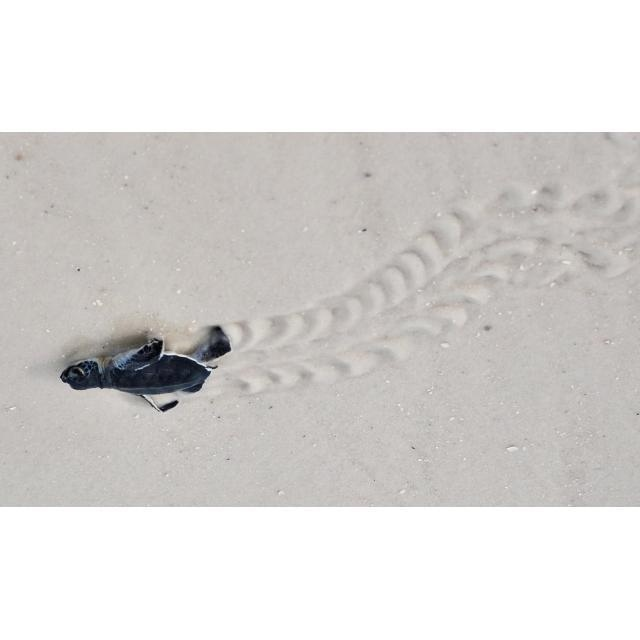turtle: (58, 323, 232, 412)
